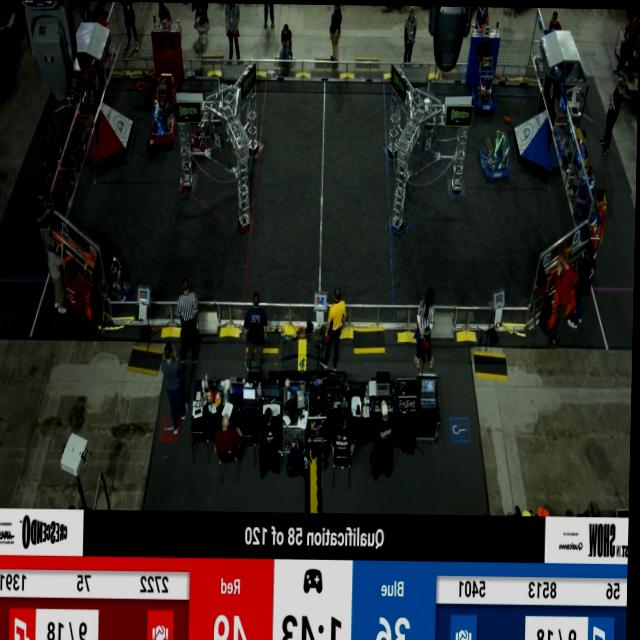Robot: (101, 250, 136, 316), (479, 128, 512, 182), (469, 51, 496, 115), (147, 93, 175, 148), (149, 63, 182, 105), (188, 105, 211, 161)
